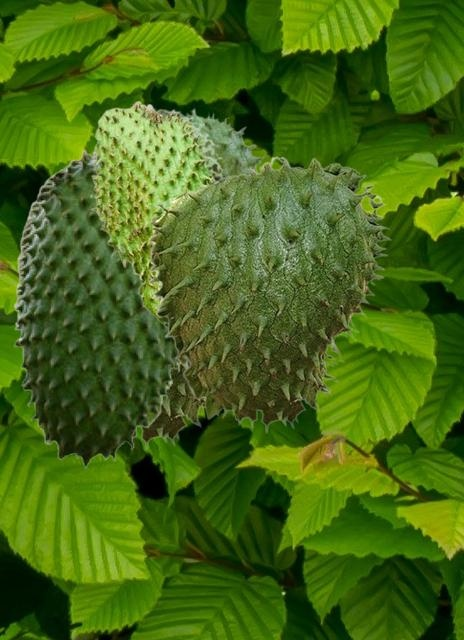guyabano: (148, 155, 391, 433), (13, 149, 180, 467), (89, 100, 223, 328), (134, 366, 204, 450), (182, 107, 264, 178)
